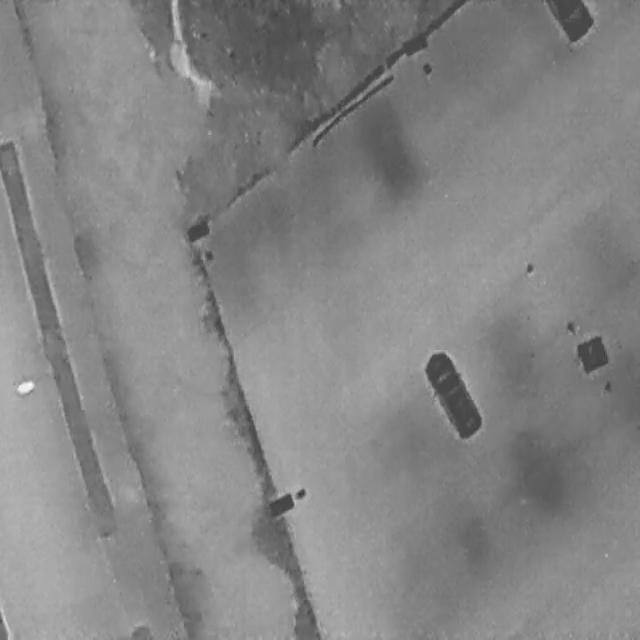Car: (417, 340, 485, 445), (542, 0, 595, 41)
